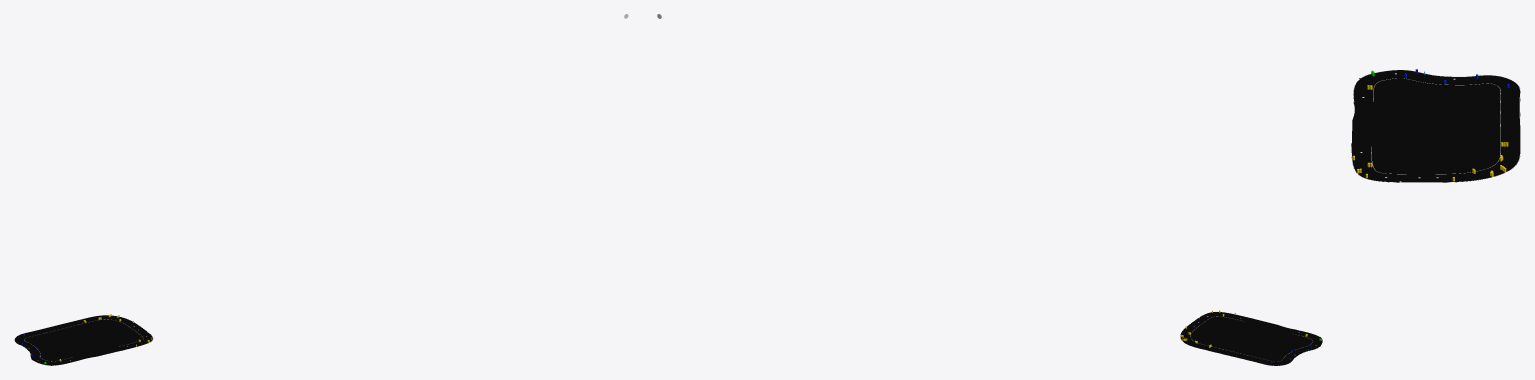
File: jaiblender_new.dae
3 views of the same model, side by side, from view 1: azimuth 30°, elevation 25°; view 2: azimuth 150°, elevation 25°; view 3: azimuth 270°, elevation 25° (orthographic). The views are drawn at different scales.
Parts seen in each view (by area): view 1: Plane.004, Plane; view 2: Plane.004, Plane; view 3: Plane.004, Plane, Plane.005, Plane.003, Plane.002, Plane.001.
Boxes of the visible parts, left/top/right/bottom form: Plane.004: left=16, top=317, right=143, bottom=365; Plane: left=14, top=315, right=152, bottom=365; Plane.004: left=1187, top=314, right=1320, bottom=364; Plane: left=1180, top=312, right=1322, bottom=365; Plane.004: left=1359, top=78, right=1500, bottom=168; Plane: left=1351, top=70, right=1520, bottom=182; Plane.005: left=1370, top=168, right=1494, bottom=175; Plane.003: left=1352, top=103, right=1373, bottom=152; Plane.002: left=1351, top=70, right=1520, bottom=182; Plane.001: left=1371, top=78, right=1500, bottom=174.
Bounding box in the file's own units: 364 × 43.34 × 104.
